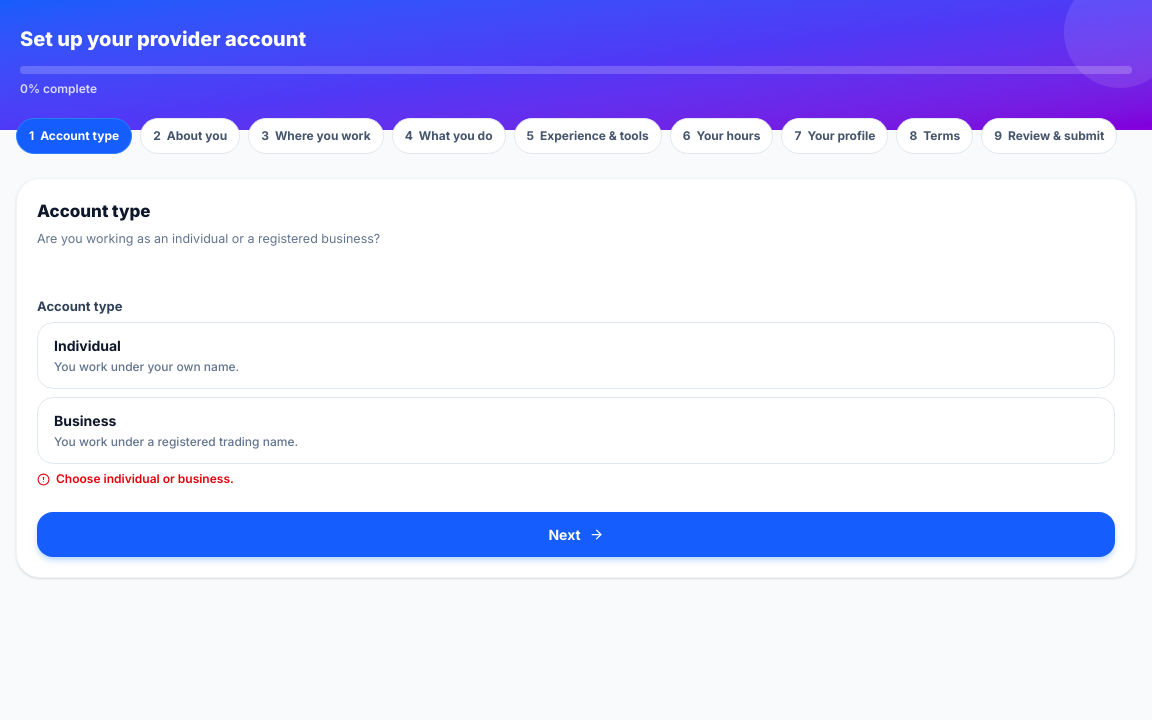
Test: autosave › HOLDS an edit while offline rather than failing it
Expected: the heading "Account type" is shown, [37, 201, 151, 221]
Click the radio button labelled "Individual You work under your own name." at (87, 346), box [37, 322, 1115, 389]
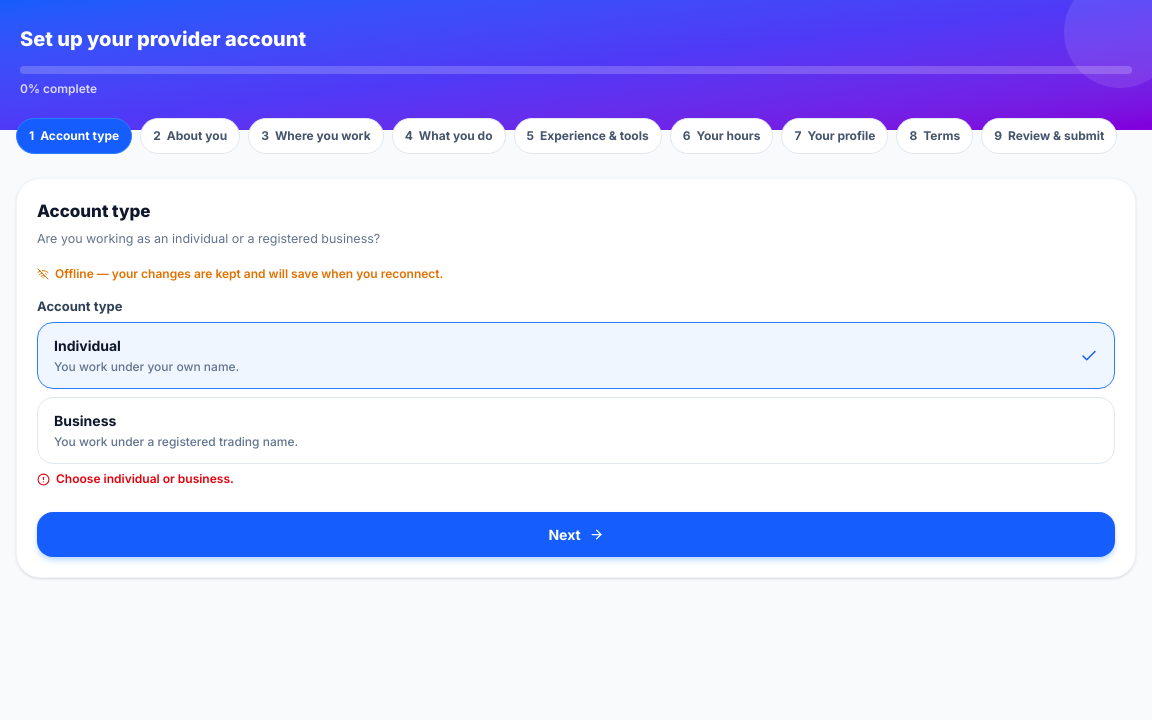
Expected: the text "Offline — your changes are kept and will save when you reconnect." is shown, [37, 266, 443, 280]
